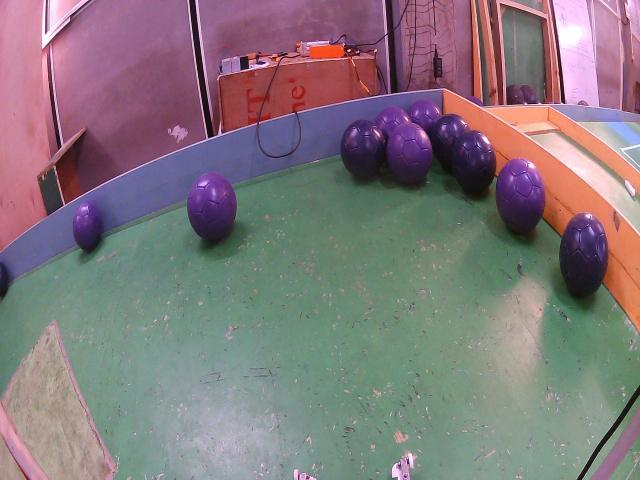jambhalya: (495, 158, 545, 233), (386, 122, 432, 183), (72, 202, 104, 252), (408, 100, 442, 138), (375, 107, 411, 141)
kaalyya: (340, 120, 385, 178)
